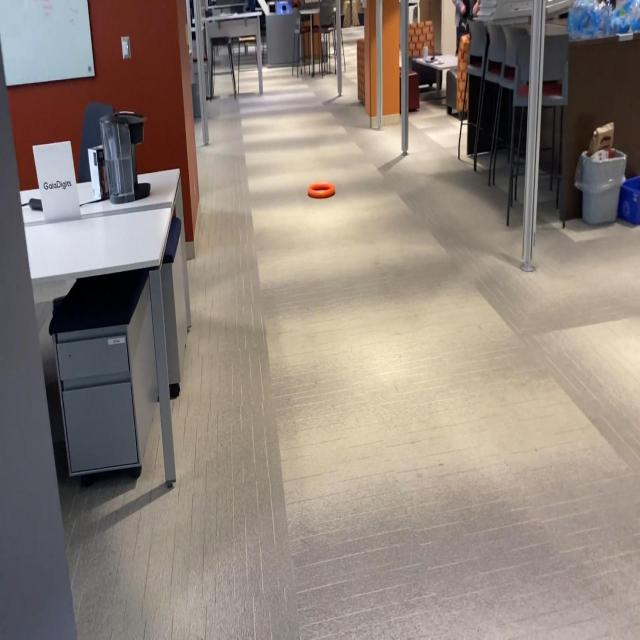note: (308, 180, 335, 198)
